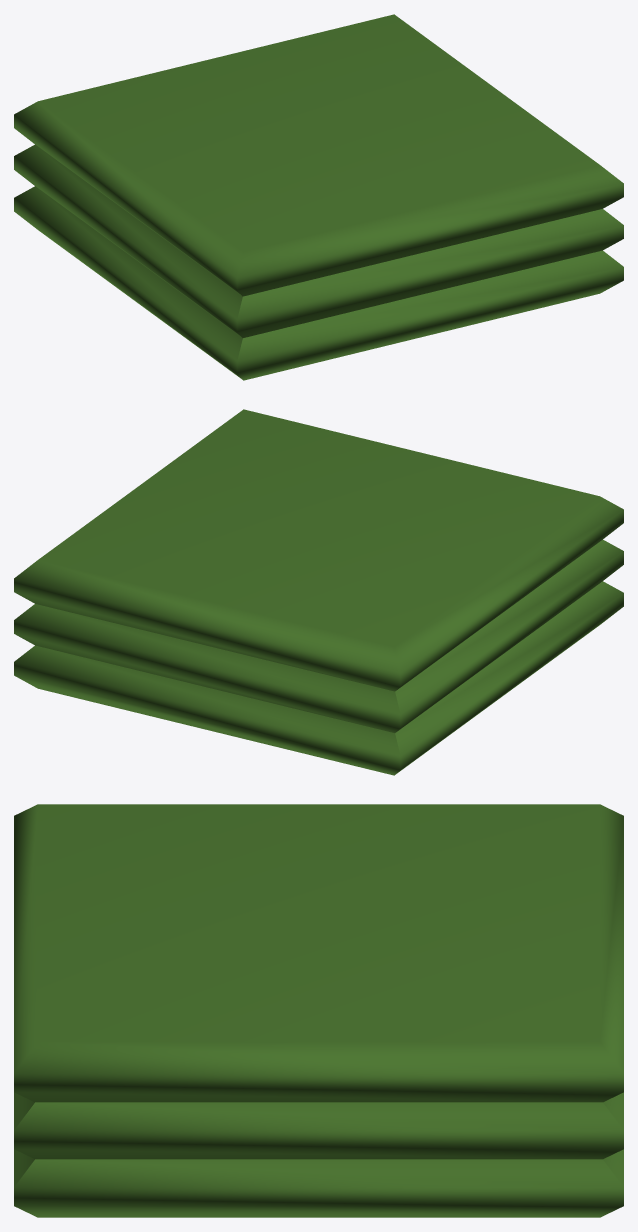
Rendered from Sheet.fbx.
3 views of the same model, one above another, from view 1: azimuth 30°, elevation 25°; view 2: azimuth 150°, elevation 25°; view 3: azimuth 270°, elevation 25° (orthographic). The views are drawn at different scales.
Parts seen in each view (by area): view 1: Sheet; view 2: Sheet; view 3: Sheet.
Boxes of the visible parts, x1,y1,x2,y2 form: Sheet: (14, 14, 623, 380); Sheet: (14, 409, 623, 775); Sheet: (14, 804, 623, 1217).
Size of the model in its own units: 1 by 0.3182 by 1.
